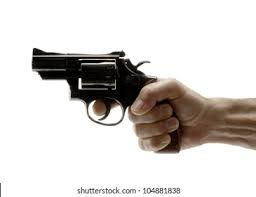gun: (29, 46, 200, 155)
